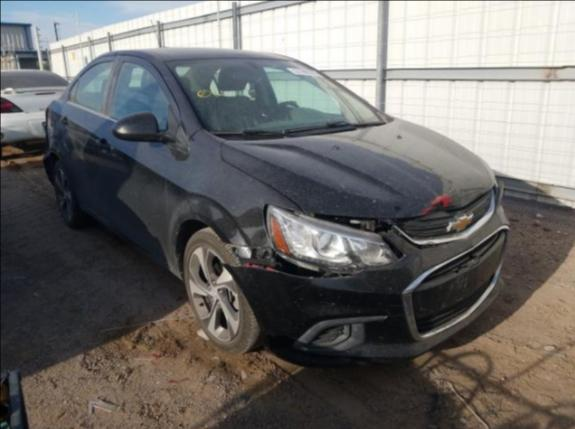Broken part: (411, 229, 509, 334), (267, 206, 397, 267), (397, 179, 500, 249), (224, 242, 362, 280), (299, 209, 396, 234), (41, 105, 63, 185), (261, 202, 275, 249)
Dent: (416, 193, 472, 215)
Paint chip: (421, 183, 457, 215)
